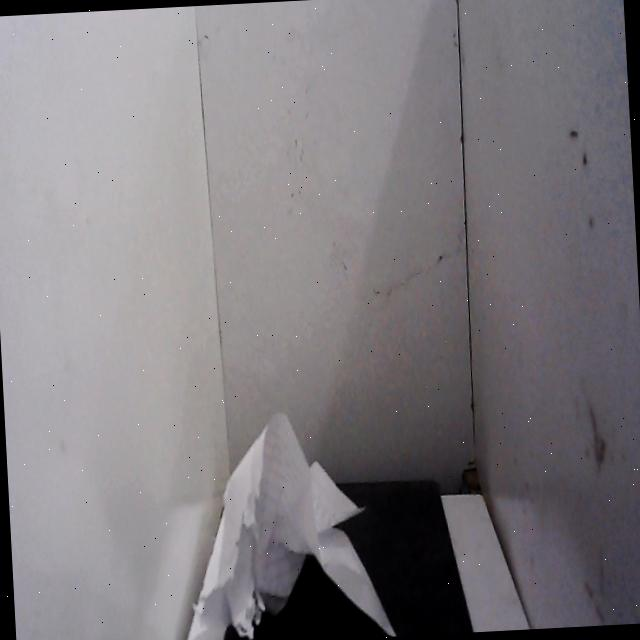papel: (171, 391, 401, 640)
